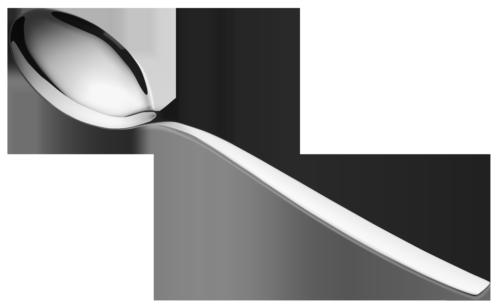Spoon: (10, 8, 490, 295)
